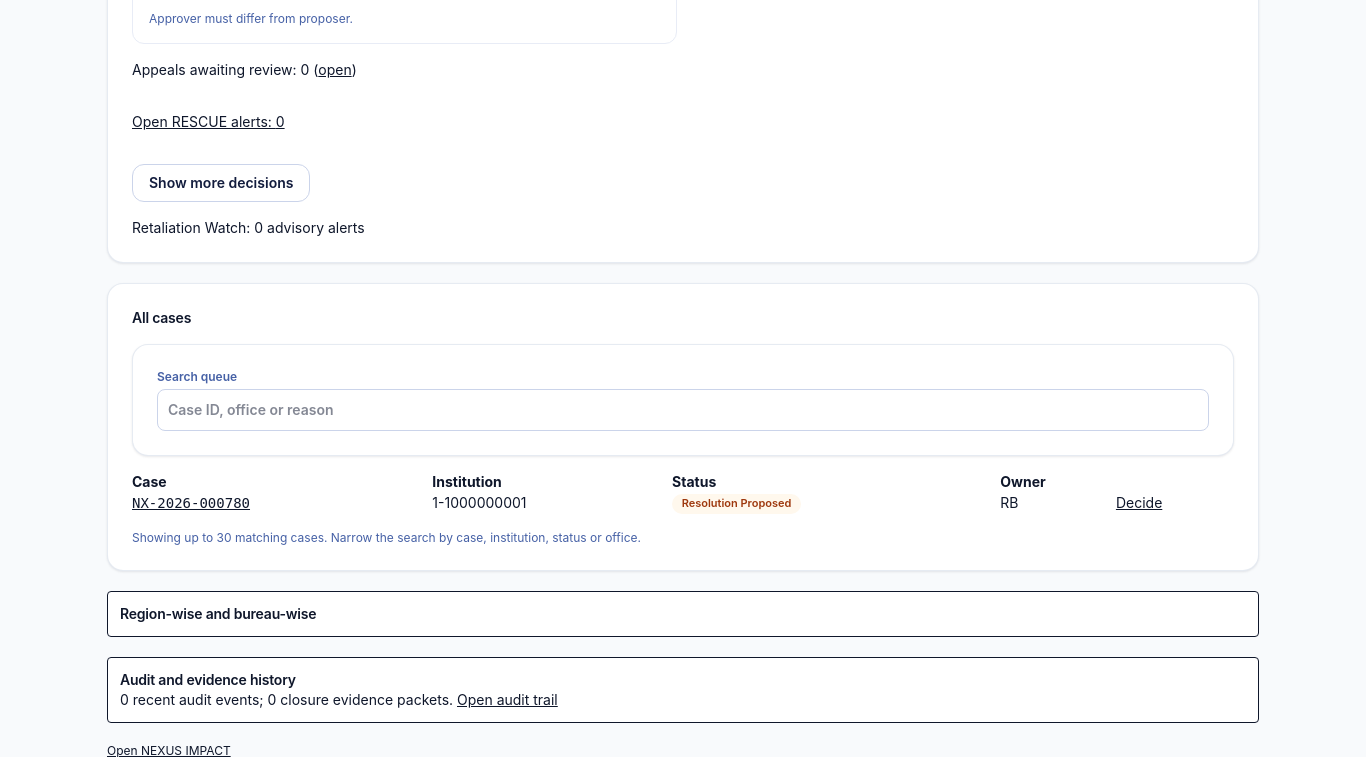
Test: [N80] the Competent Authority workspace shows the member designation, approvals and escalations, and no narrative
This screenshot has width=1366, height=757.
(page scrolled)
Click the button "Decide". click: (1139, 503)
box: [1116,493,1162,513]
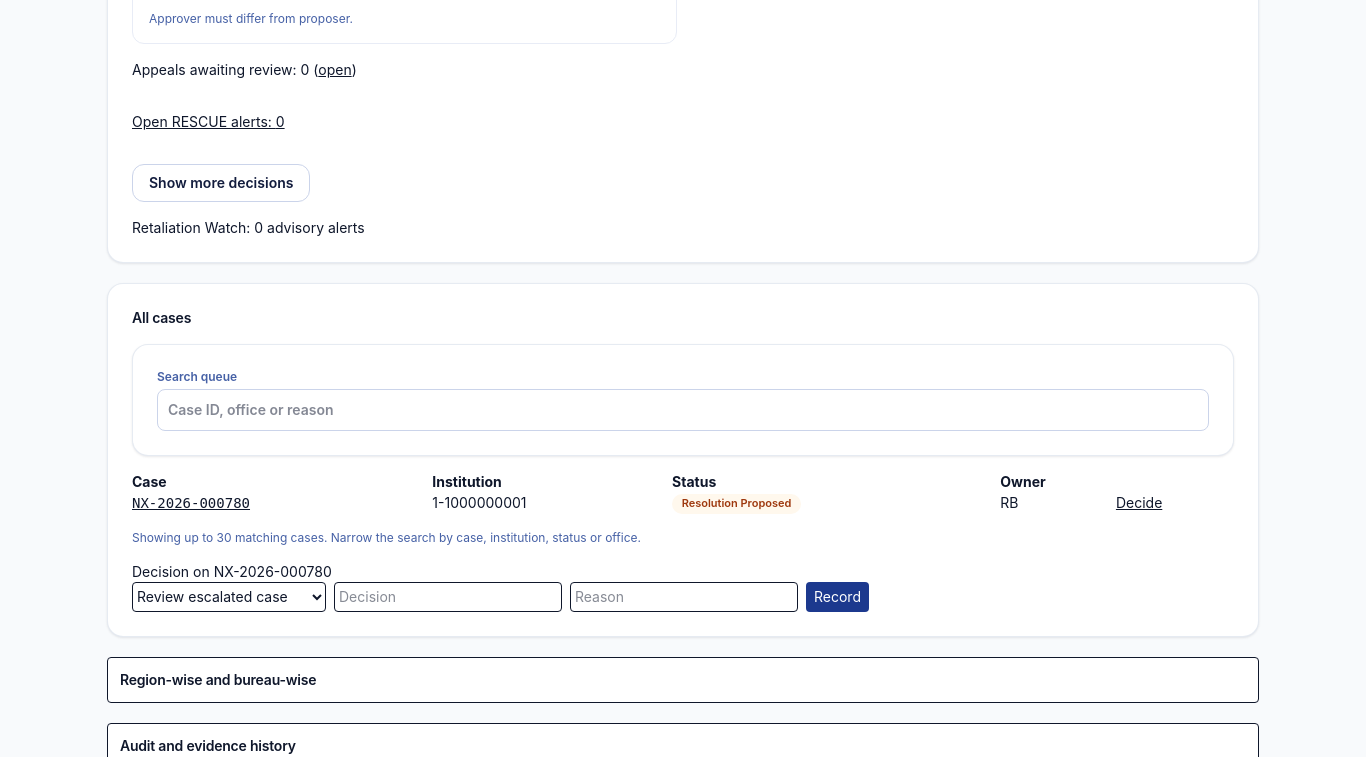
Check: the dropdown named "Decision kind" is shown, box [132,582,326,612]
